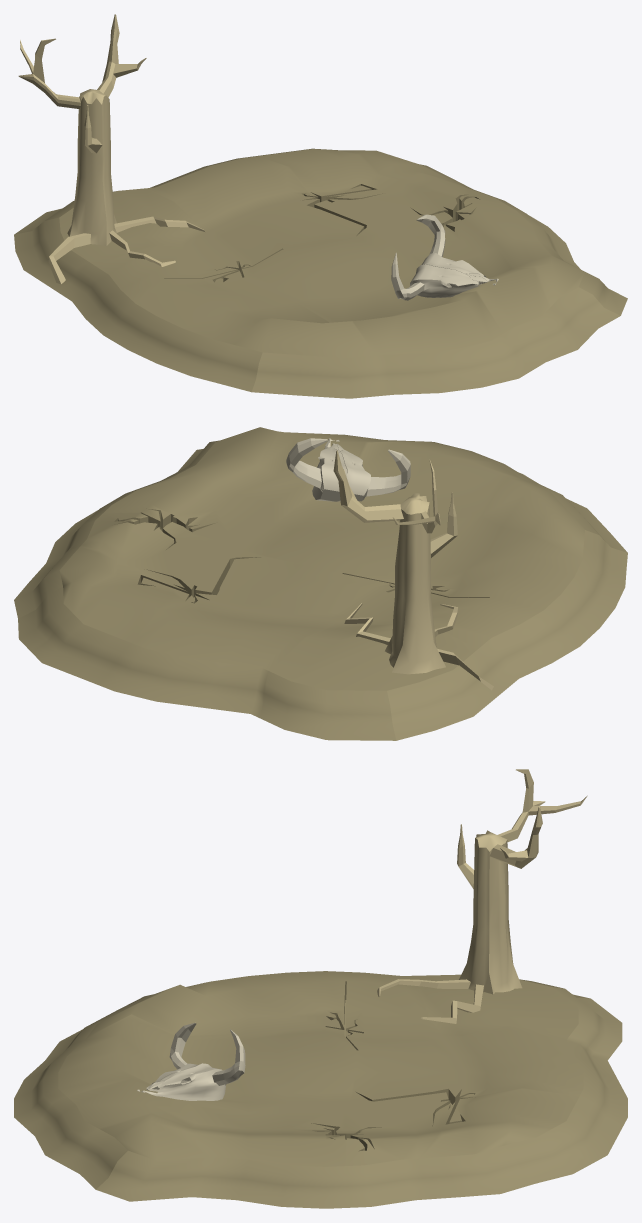
File: lago seco.fbx
The picture shows the model from 3 angles, top to bottom: view 1: azimuth 30°, elevation 25°; view 2: azimuth 150°, elevation 25°; view 3: azimuth 270°, elevation 25°; orthographic projection. The views are drawn at different scales.
Visible parts, largest first — view 1: pCube1, pCube3, pCube2; view 2: pCube1, pCube3, pCube2; view 3: pCube1, pCube3, pCube2.
Part boxes in pixels (left/top/right/bottom): pCube1: left=14, top=148, right=627, bottom=398; pCube3: left=18, top=14, right=204, bottom=284; pCube2: left=391, top=214, right=498, bottom=300; pCube1: left=14, top=427, right=627, bottom=740; pCube3: left=333, top=450, right=493, bottom=690; pCube2: left=286, top=438, right=410, bottom=501; pCube1: left=14, top=971, right=627, bottom=1208; pCube3: left=377, top=769, right=587, bottom=1023; pCube2: left=137, top=1023, right=245, bottom=1100.
Bounding box in the file's own units: 22.42 × 11.12 × 25.42.
